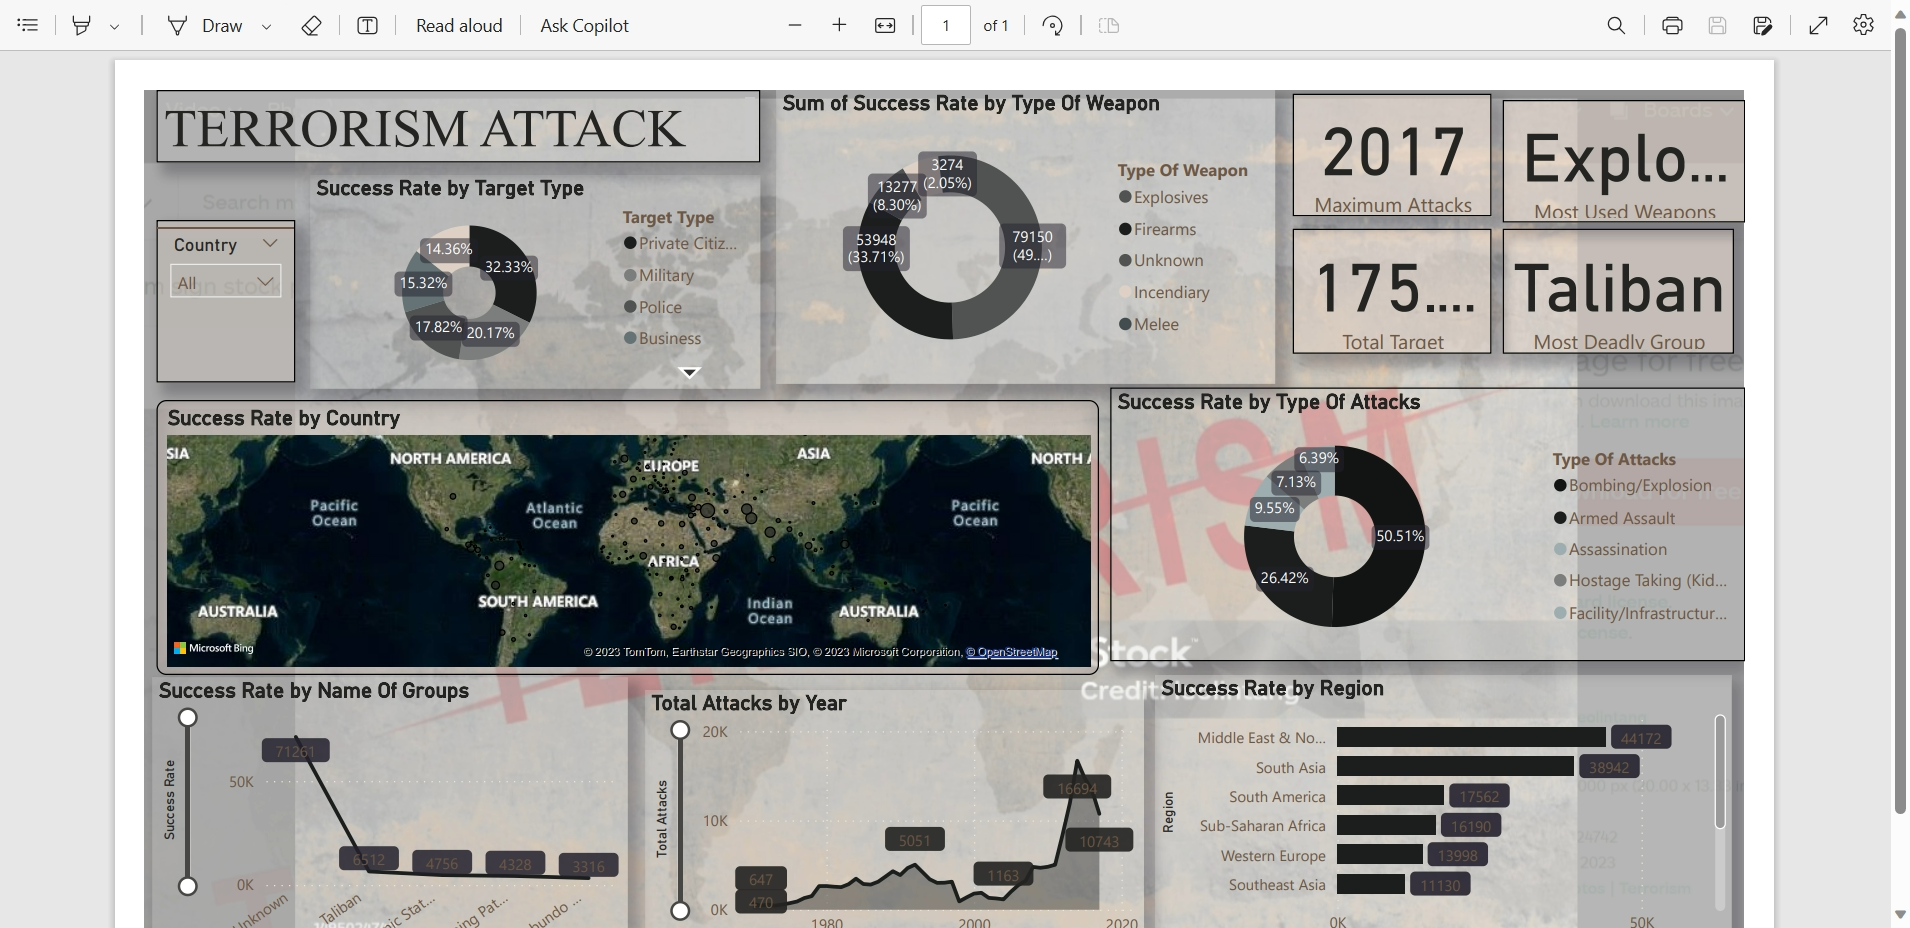

Layout of this report page (visuals, bound fields, positions):
{"tool":"powerbi","page":{"name":"Terrorism","canvas":[1280,720],"ordinal":0},"visuals":[{"type":"donutChart","fields":{"Category":["Terrorism dataset.Type Of Attacks"],"Y":["Sum(Terrorism dataset.Success Rate)"]},"box":[773.3,238.4,507.2,219],"z":0},{"type":"donutChart","fields":{"Category":["Terrorism dataset.Target Type"],"Y":["Sum(Terrorism dataset.Success Rate)"]},"box":[132.7,67.5,360.6,171.3],"z":1000},{"type":"donutChart","fields":{"Category":["Terrorism dataset.Type Of Weapos"],"Y":["Sum(Terrorism dataset.Success Rate)"]},"box":[506.1,0,398.5,234.7],"z":2000},{"type":"map","fields":{"Category":["Terrorism dataset.Country"],"Size":["Sum(Terrorism dataset.Success Rate)"]},"box":[9.7,248.1,753.9,220.4],"z":3000},{"type":"lineChart","fields":{"Y":["Sum(Terrorism dataset.Success Rate)"],"Category":["Terrorism dataset.Name Of  Groups"]},"box":[6.9,469.8,379.7,250.8],"z":4000},{"type":"areaChart","fields":{"Category":["Terrorism dataset.Year"],"Y":["CountNonNull(Terrorism dataset.Year)"]},"box":[400.5,479.5,399.1,239.8],"z":5000},{"type":"barChart","fields":{"Category":["Terrorism dataset.Region"],"Y":["Sum(Terrorism dataset.Success Rate)"]},"box":[809.2,467.9,460.7,250.9],"z":6000},{"type":"slicer","fields":{"Values":["Terrorism dataset.Country"]},"box":[9.7,103.9,110.9,130.3],"z":7000},{"type":"card","fields":{"Values":["Min(Terrorism dataset.Name Of  Groups)"]},"box":[1086.5,110.9,185.7,99.8],"z":8000},{"type":"card","fields":{"Values":["CountNonNull(Terrorism dataset.Target Type)"]},"box":[918.8,110.9,159.4,99.8],"z":9000},{"type":"card","fields":{"Values":["Max(Terrorism dataset.Year)"]},"box":[918.8,2.8,159.4,98.4],"z":10000},{"type":"card","fields":{"Values":["Min(Terrorism dataset.Type Of Weapos)"]},"box":[1087,8.3,193.6,98.2],"z":11000},{"type":"textbox","box":[9.7,0,483.7,58.2],"z":12000}]}

Visuals, with their boxes on the page's 1280x720 design canvas (x1, y1, x2, y2). These are canvas units, not pixel positions in the 1910x928 screenshot, which may show the page scaled, cropped or inside an application window:
donutChart - Terrorism dataset.Type Of Attacks x Sum(Terrorism dataset.Success Rate): Rect(773, 238, 1280, 457)
donutChart - Terrorism dataset.Target Type x Sum(Terrorism dataset.Success Rate): Rect(133, 68, 493, 239)
donutChart - Terrorism dataset.Type Of Weapos x Sum(Terrorism dataset.Success Rate): Rect(506, 0, 905, 235)
map - Terrorism dataset.Country x Sum(Terrorism dataset.Success Rate): Rect(10, 248, 764, 468)
lineChart - Sum(Terrorism dataset.Success Rate) x Terrorism dataset.Name Of  Groups: Rect(7, 470, 387, 721)
areaChart - Terrorism dataset.Year x CountNonNull(Terrorism dataset.Year): Rect(400, 480, 800, 719)
barChart - Terrorism dataset.Region x Sum(Terrorism dataset.Success Rate): Rect(809, 468, 1270, 719)
slicer - Terrorism dataset.Country: Rect(10, 104, 121, 234)
card - Min(Terrorism dataset.Name Of  Groups): Rect(1086, 111, 1272, 211)
card - CountNonNull(Terrorism dataset.Target Type): Rect(919, 111, 1078, 211)
card - Max(Terrorism dataset.Year): Rect(919, 3, 1078, 101)
card - Min(Terrorism dataset.Type Of Weapos): Rect(1087, 8, 1281, 106)
textbox: Rect(10, 0, 493, 58)
